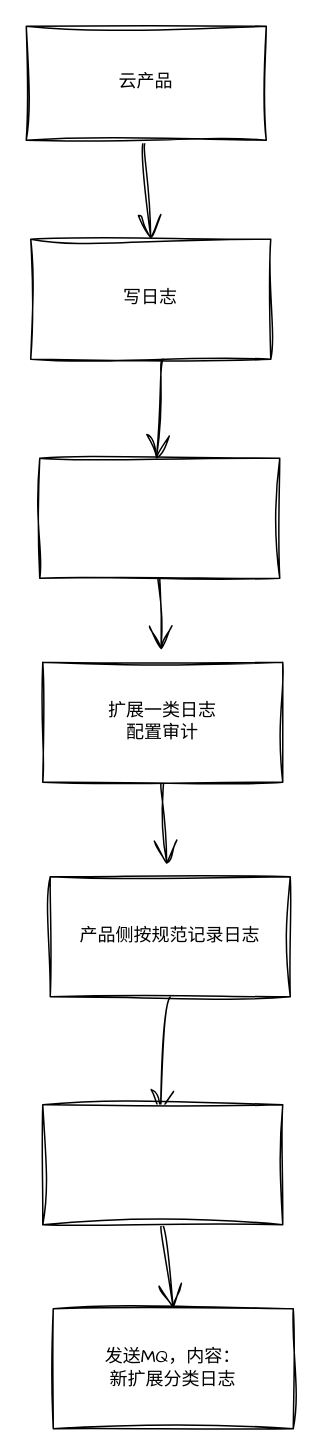
This 320x1455 diagram has some shape labels left out. The shapes that lost their labels are listed below. From the top down, each one's centre as x and y in pixels, then its label:
At (159,517): "运营运维定日志规范".
At (162,1164): "底座入库".
